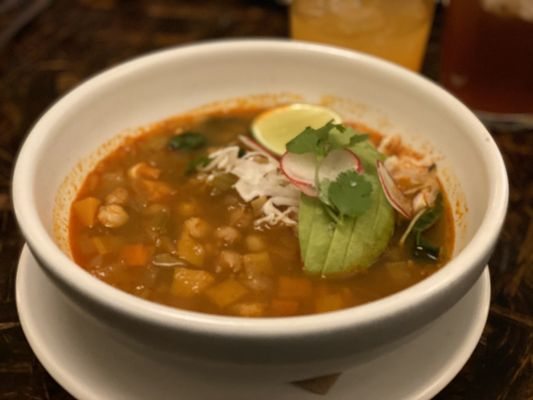sushi: (7, 48, 491, 396)
